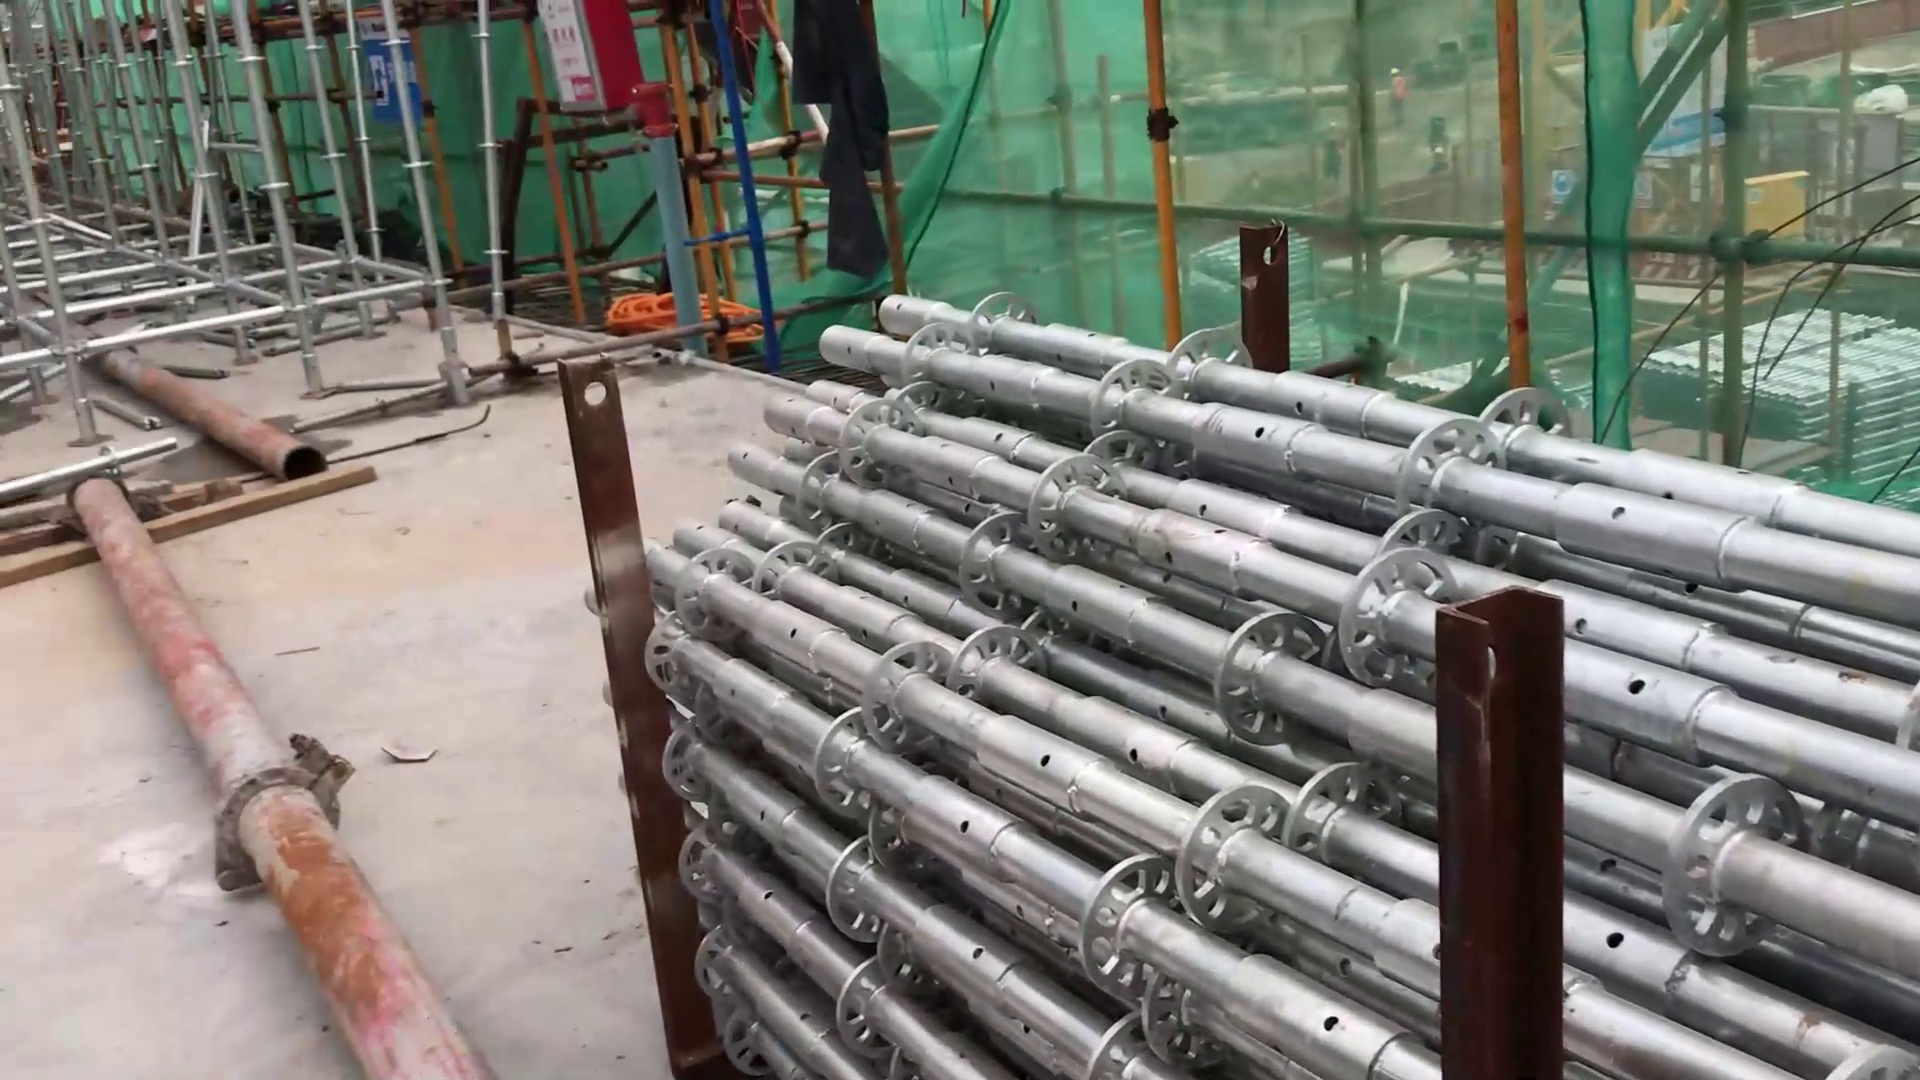scaffold: (644, 294, 1909, 1080), (1638, 305, 1920, 483)
slogan: (349, 18, 429, 124)
